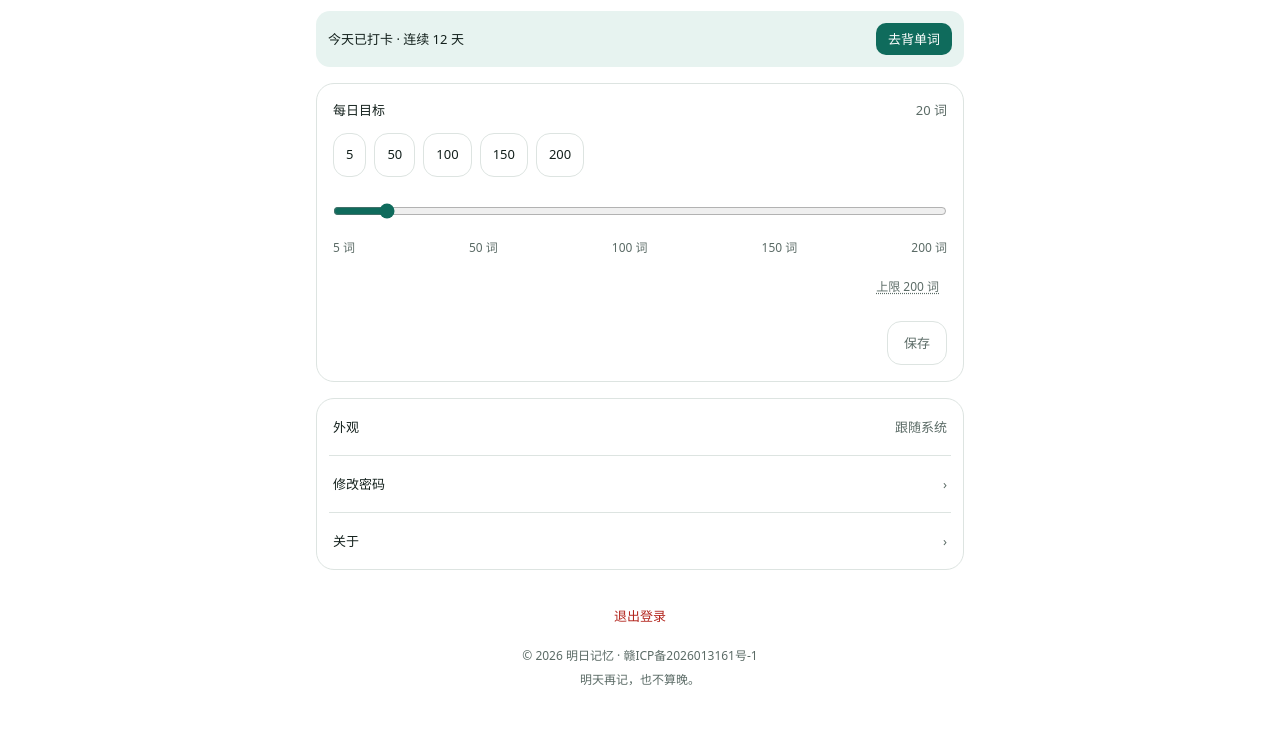
K 组 · G 区退出登录（§3.8.1:958 单独一行危险色 + §3.8.2:973 必过 ConfirmSheet；清凭据只经 auth-store.signOut()） › K-05 确认层点「退出登录」：清凭据只经 signOut() 一个函数、上一会话缓存清掉、落点是登录页、0 登出请求
(page scrolled)
Click the button "退出登录": coordinates (640, 616) [598,594,682,638]
Wait 80 ms
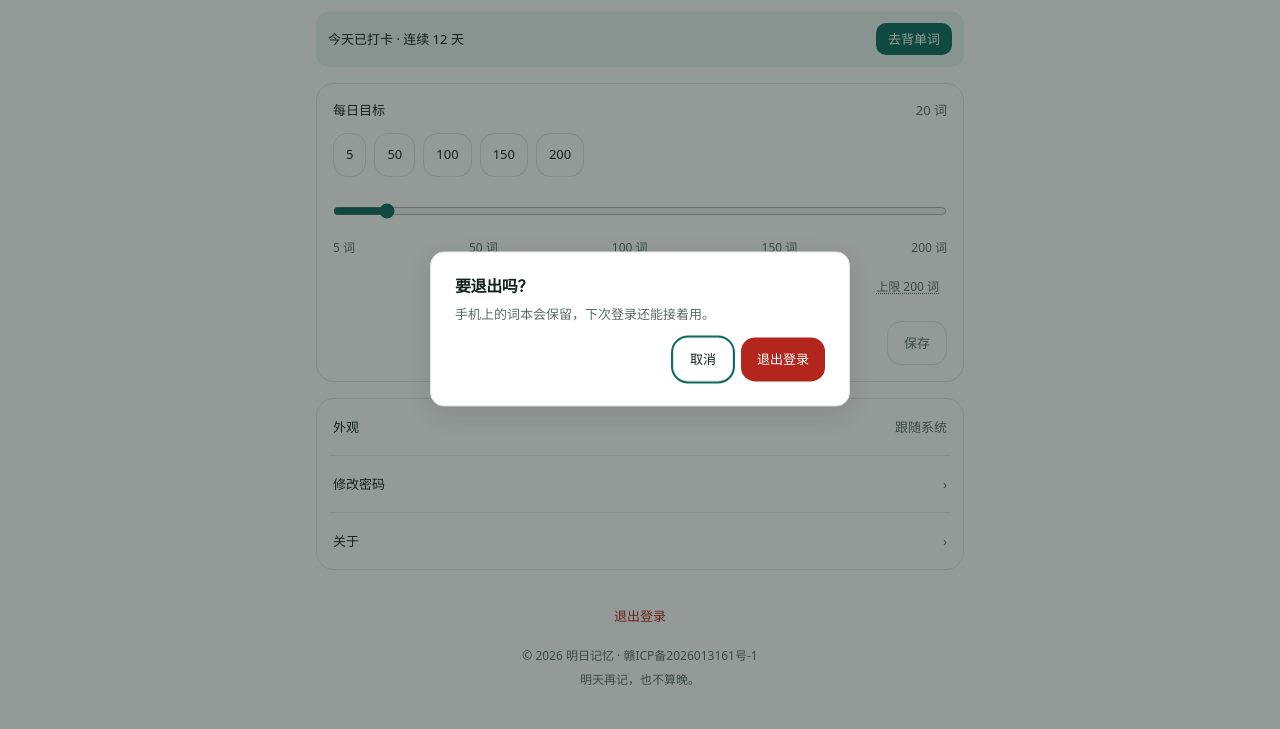
Check: the dialog with test id "me-signout" is shown, box [430,251,850,406]
Click the button "退出登录": coordinates (783, 360) [741,338,825,382]
Wait 80 ms
(page scrolled)
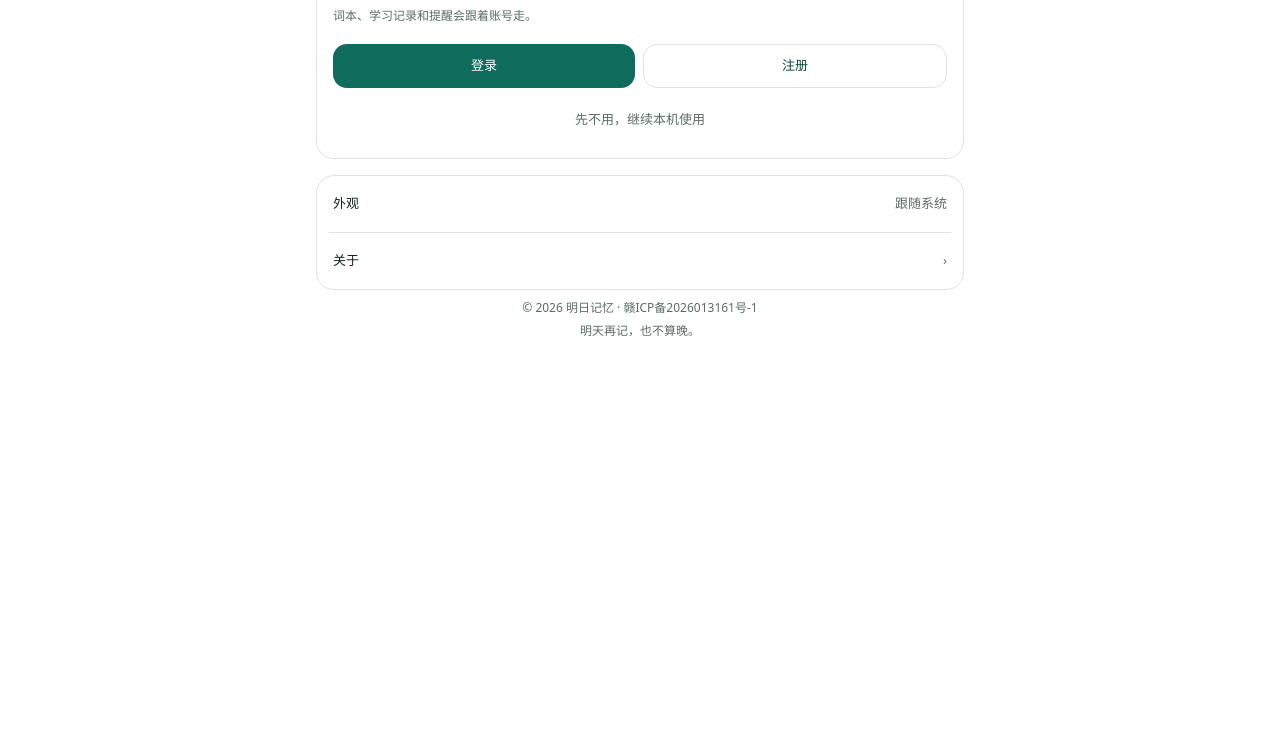
Check: the dialog with test id "me-signout" is gone
